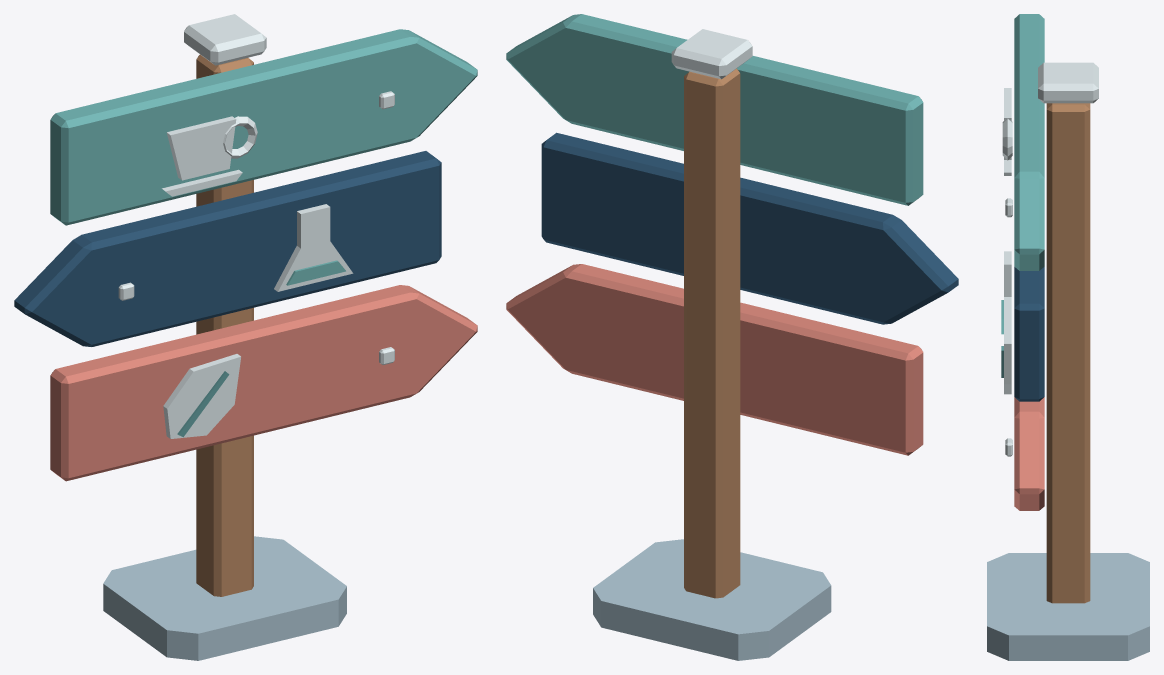
Rendered from campus_wayfinding_sign_v01.glb.
3 views of the same model, side by side, from view 1: azimuth 30°, elevation 25°; view 2: azimuth 150°, elevation 25°; view 3: azimuth 270°, elevation 25° (orthographic). The views are drawn at different scales.
Visible parts, largest first — view 1: campus_wayfinding_sign; view 2: campus_wayfinding_sign; view 3: campus_wayfinding_sign.
Part boxes in pixels (x1=…): campus_wayfinding_sign: x1=14, y1=14, x2=477, y2=660; campus_wayfinding_sign: x1=506, y1=14, x2=958, y2=660; campus_wayfinding_sign: x1=987, y1=14, x2=1149, y2=660.
Bounding box in the file's own units: 2.26 × 2.78 × 0.75.
1 material, 1 textured.
